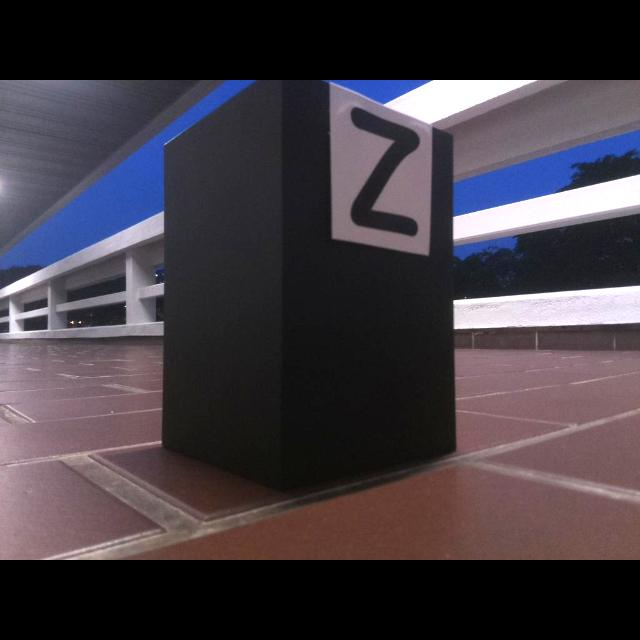Z: (351, 108, 420, 236)
